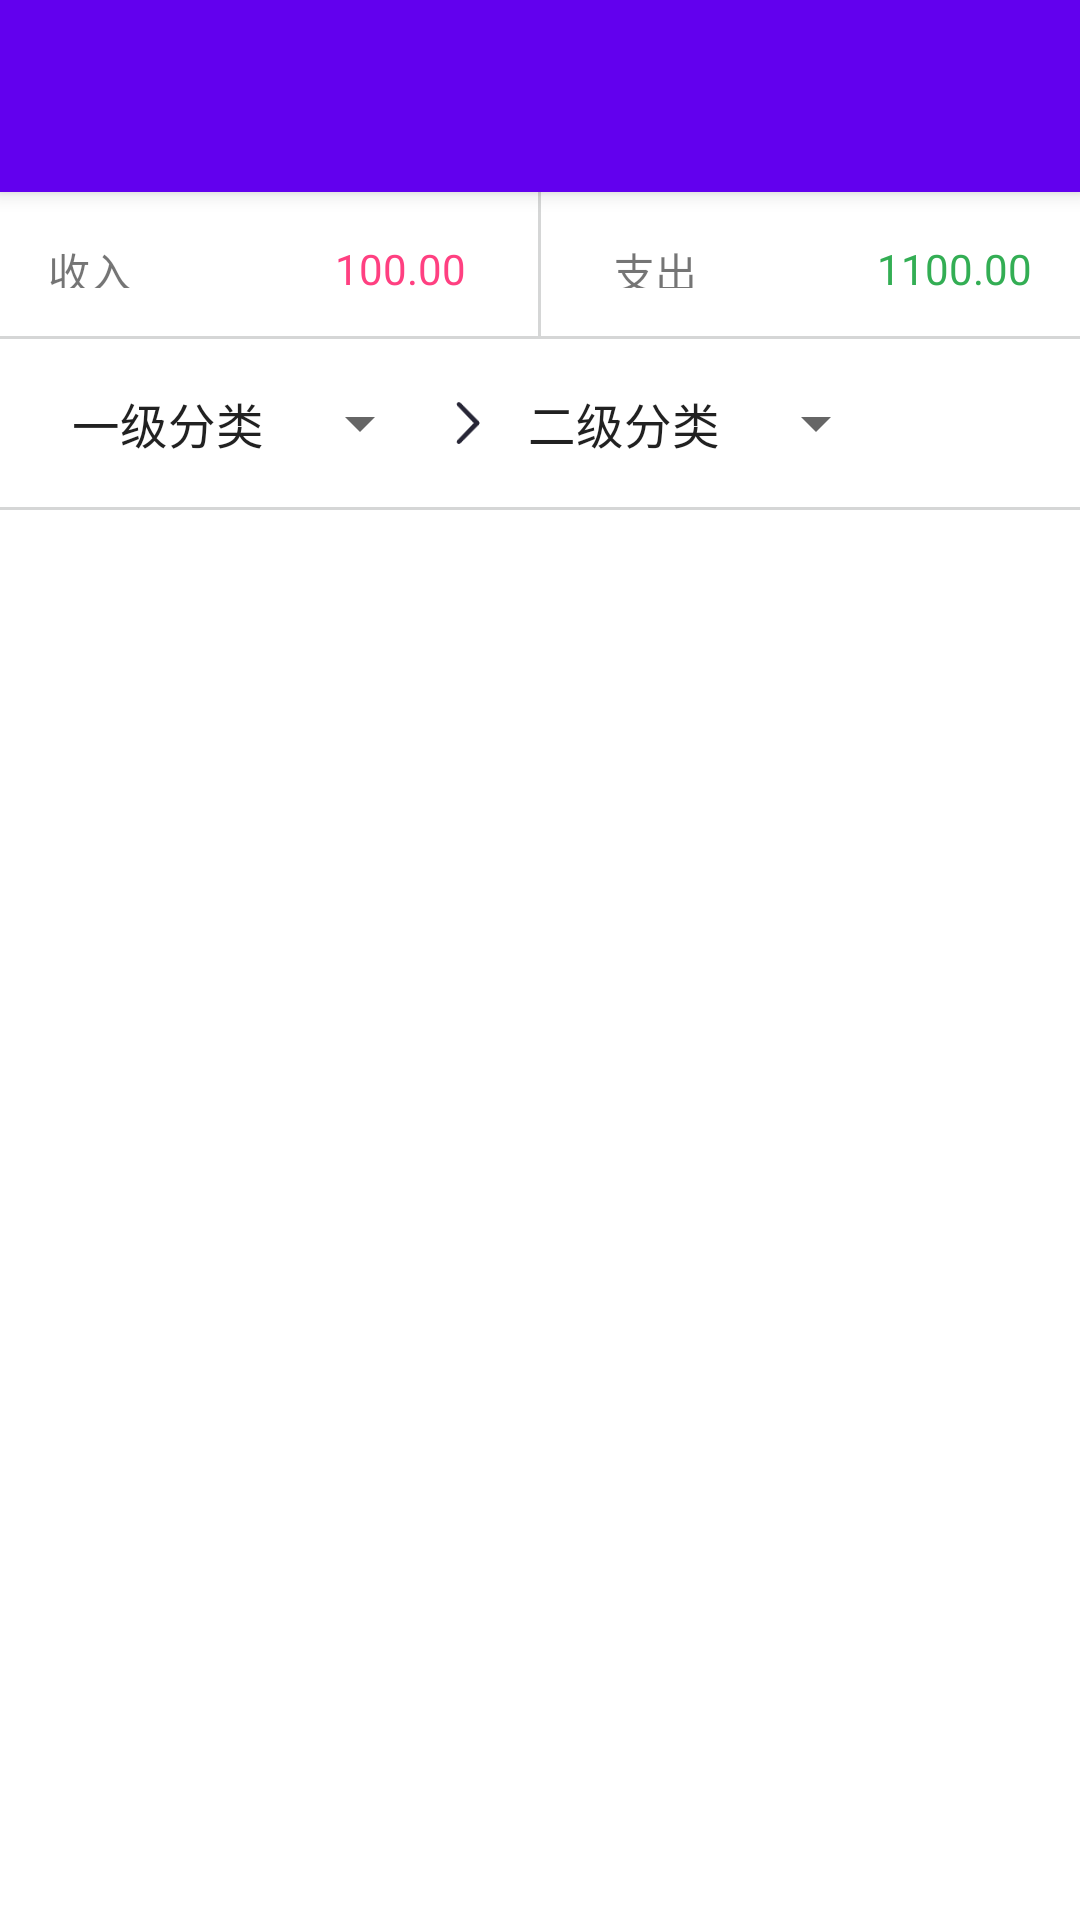

Where to tap for icons on this 1080*1920 app screen, as (x,y):
right: (468,423)
